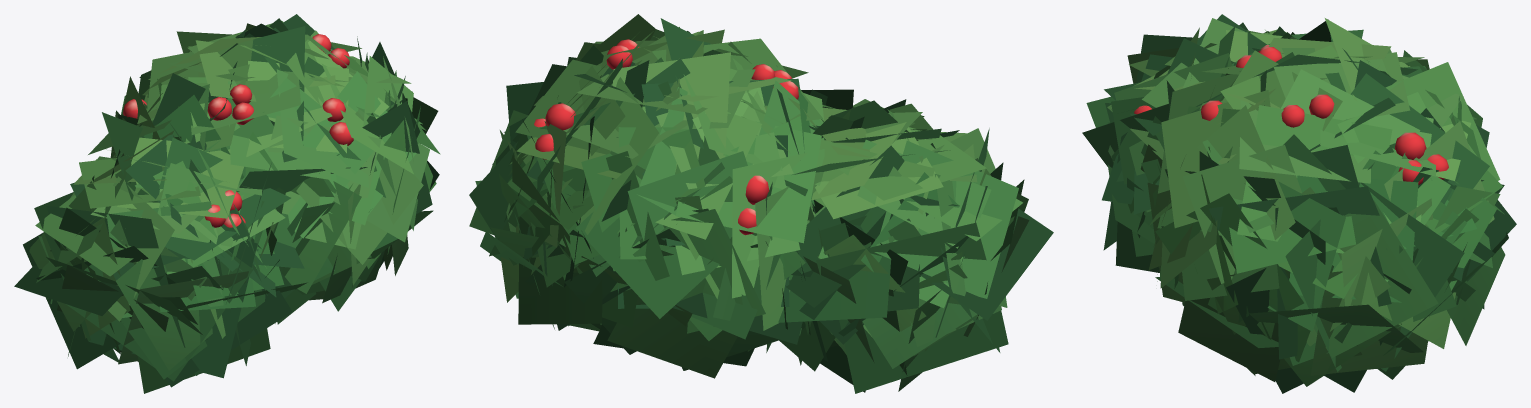
The model's file is tree-village-bush-box-v1.glb.
3 views of the same model, side by side, from view 1: azimuth 30°, elevation 25°; view 2: azimuth 150°, elevation 25°; view 3: azimuth 270°, elevation 25° (orthographic). The views are drawn at different scales.
Parts seen in each view (by area): view 1: cards_round, berries; view 2: cards_round, berries; view 3: cards_round, berries.
Boxes of the visible parts, box(x1,y1,x2,y2) form: cards_round: box(14, 14, 440, 393); berries: box(123, 34, 353, 227); cards_round: box(469, 14, 1053, 393); berries: box(534, 39, 798, 235); cards_round: box(1082, 14, 1516, 393); berries: box(1134, 45, 1448, 184).
Size of the model in its own units: 1.79 by 1.1 by 1.39.
